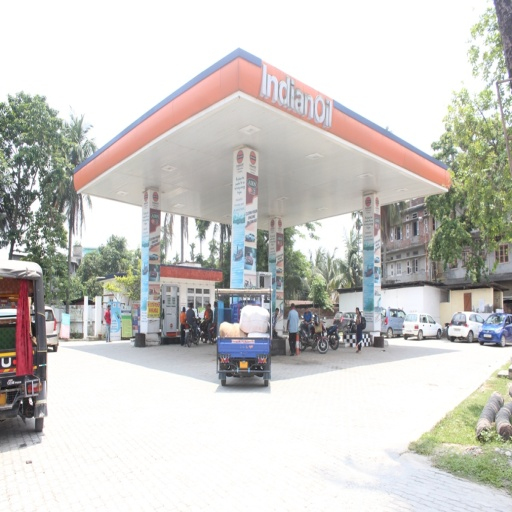roof: (72, 50, 454, 227)
